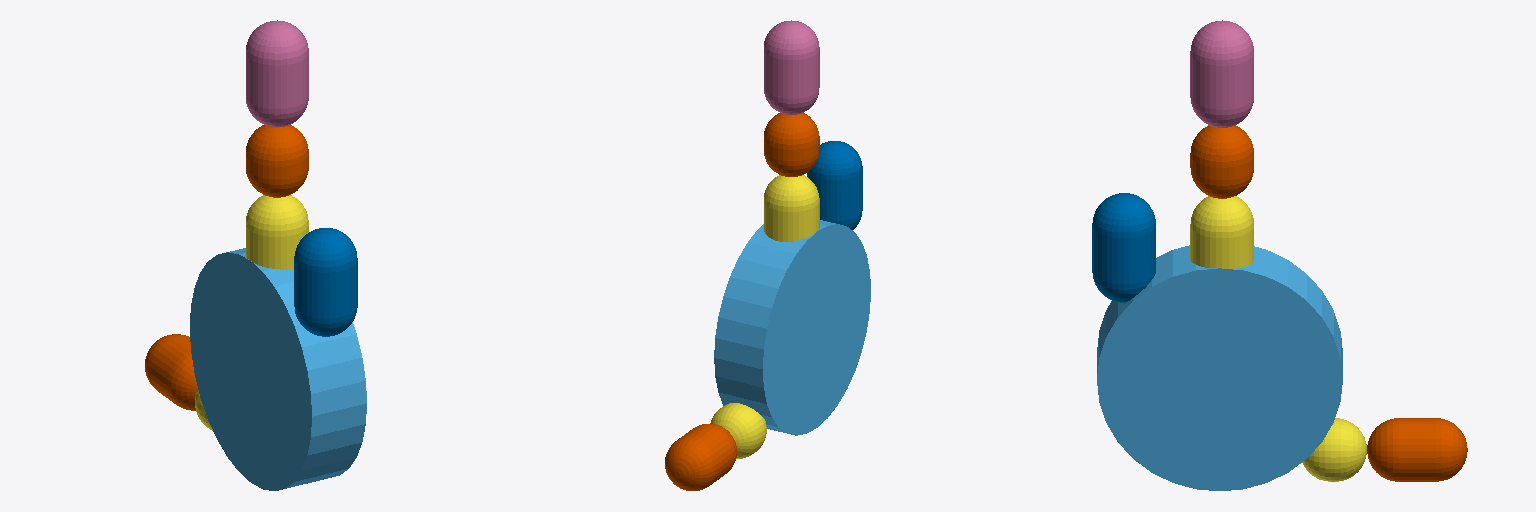
The robot description file, URDF, robot "DexterousHand":
<?xml version="1.0"?>
<robot name="DexterousHand">


    <link name="world"/>
    <joint name="world_to_palm" type="fixed">
        <parent link="world"/>
        <child link="palm"/>
        <origin xyz="0 0 0" rpy="0 0 0"/>
    </joint>
    <link name="palm">
        <inertial>
            <origin xyz="0 0 0.057" rpy="0 0 0"/>
            <mass value="0.30212892864"/>
            <inertia ixx="0.00049080844457568" ixy="0.0" ixz="0.0" iyy="0.00026746366246427523" iyz="0.0" izz="0.00026746366246427523"/>
        </inertial>
        <visual>
            <origin xyz="0 0 0.057" rpy="1.5708 0 1.5708"/>
            <geometry>
                <cylinder radius="0.057" length="0.0296"/>
            </geometry>
            <material name="default"/>
        </visual>
        <collision>
            <origin xyz="0 0 0.057" rpy="1.5708 0 1.5708"/>
            <geometry>
                <cylinder radius="0.057" length="0.0296"/>
            </geometry>
        </collision>
    </link>

    
    <joint name="thumb_joint1" type="revolute">
        <parent link="palm"/>
        <child link="thumb_base"/>
        <origin xyz="0.0029 0.0368 0.0157" rpy="-1.5708 -1.5708 0.0"/>
        <axis xyz="-1 0 0"/>
        <limit lower="-0.349" upper="2.094" effort="1.0" velocity="1.0"/>
    </joint>

    <link name="thumb_base"></link>

    <joint name="thumb_joint2" type="revolute">
        <parent link="thumb_base"/>
        <child link="thumb_proximal"/>
        <origin xyz="0.0 0.0 0.0" rpy="0.0 0.0 0.0"/>
        <axis xyz="0 0 1"/>
        <limit lower="-0.47" upper="2.443" effort="1.0" velocity="1.0"/>
    </joint>

    <link name="thumb_proximal">
        <inertial>
            <origin xyz="0 0 0.01565" rpy="0 0 0"/>
            <mass value="0.021538658803200002"/>
            <inertia ixx="2.9378910096388167e-06" ixy="0.0" ixz="0.0" 
            iyy="2.9378910096388167e-06" iyz="0.0" izz="2.358913912126464e-06"/>
        </inertial>
        <visual>
            <origin xyz="0 0 0.01565" rpy="0 0 0"/>
            <geometry>
                <cylinder radius="0.0148" length="0.0017000000000000001"/>
            </geometry>
            <material name="default"/>
        </visual>
        <visual>
            <origin xyz="0 0 0.0148" rpy="0 0 0"/>
            <geometry>
                <sphere radius="0.0148"/>
            </geometry>
            <material name="default"/>
        </visual>
        <visual>
            <origin xyz="0 0 0.0165" rpy="0 0 0"/>
            <geometry>
                <sphere radius="0.0148"/>
            </geometry>
            <material name="default"/>
        </visual>
        <collision>
            <origin xyz="0 0 0.01565" rpy="0 0 0"/>
            <geometry>
                <cylinder radius="0.0148" length="0.0017000000000000001"/>
            </geometry>
        </collision>
        <collision>
            <origin xyz="0 0 0.0148" rpy="0 0 0"/>
            <geometry>
                <sphere radius="0.0148"/>
            </geometry>
        </collision>
        <collision>
            <origin xyz="0 0 0.0165" rpy="0 0 0"/>
            <geometry>
                <sphere radius="0.0148"/>
            </geometry>
        </collision>
    </link>

    <joint name="thumb_joint3" type="revolute">
        <parent link="thumb_proximal"/>
        <child link="thumb_knuckle"/>
        <origin xyz="0.0 0.0 0.0313" rpy="0.0 0.0 0.0"/>
        <axis xyz="1 0 0"/>
        <limit lower="0.0" upper="0.0" effort="1.0" velocity="1.0"/>
    </joint>

    <link name="thumb_knuckle"></link>

    <joint name="thumb_joint4" type="revolute">
        <parent link="thumb_knuckle"/>
        <child link="thumb_middle"/>
        <origin xyz="0 0 0" rpy="0 0 0"/> 
        <axis xyz="0 1 0"/>
        <limit lower="-1.2" upper="1.9" effort="1.0" velocity="1.0"/>
    </joint>

    <link name="thumb_middle">
        <inertial>
            <origin xyz="0 0 0.0233" rpy="0 0 0"/>
            <mass value="0.032067140582400004"/>
            <inertia ixx="7.5589732685519385e-06" ixy="0.0" ixz="0.0" 
            iyy="7.5589732685519385e-06" iyz="0.0" izz="3.5119932365844485e-06"/>
        </inertial>
        <visual>
            <origin xyz="0 0 0.0233" rpy="0 0 0"/>
            <geometry>
                <cylinder radius="0.0148" length="0.017"/>
            </geometry>
            <material name="default"/>
        </visual>
        <visual>
            <origin xyz="0 0 0.0148" rpy="0 0 0"/>
            <geometry>
                <sphere radius="0.0148"/>
            </geometry>
            <material name="default"/>
        </visual>
        <visual>
            <origin xyz="0 0 0.0318" rpy="0 0 0"/>
            <geometry>
                <sphere radius="0.0148"/>
            </geometry>
            <material name="default"/>
        </visual>
        <collision>
            <origin xyz="0 0 0.0233" rpy="0 0 0"/>
            <geometry>
                <cylinder radius="0.0148" length="0.017"/>
            </geometry>
        </collision>
        <collision>
            <origin xyz="0 0 0.0148" rpy="0 0 0"/>
            <geometry>
                <sphere radius="0.0148"/>
            </geometry>
        </collision>
        <collision>
            <origin xyz="0 0 0.0318" rpy="0 0 0"/>
            <geometry>
                <sphere radius="0.0148"/>
            </geometry>
        </collision>
    </link>

    <joint name="thumb_joint5" type="revolute">
        <parent link="thumb_middle"/>
        <child link="thumb_distal"/>
        <origin xyz="0 0 0.0466" rpy="0 0 0"/> 
        <axis xyz="0 1 0"/>
        <limit lower="0.0" upper="0.0" effort="1.0" velocity="1.0"/>
    </joint>

    <link name="thumb_distal">
    </link>

    
    <joint name="index_joint1" type="revolute">
        <parent link="palm"/>
        <child link="index_proximal"/>
        <origin xyz="0.0 0.0 0.0" rpy="0.0 0.0 0.0"/>
        <axis xyz="1 0 0"/>
        <limit lower="0.0" upper="0.0" effort="1.0" velocity="1.0"/>
    </joint>

    <link name="index_proximal">
    </link>

    <joint name="index_joint2" type="revolute">
        <parent link="index_proximal"/>
        <child link="index_dummy"/>
        <origin xyz="0.0 0.0 0.0" rpy="0.0 0.0 0.0"/>
        <axis xyz="0 1 0"/>
        <limit lower="0.0" upper="0.0" effort="1.0" velocity="1.0"/>
    </joint>

    <link name="index_dummy"></link>

    <joint name="index_joint3" type="revolute">
        <parent link="index_dummy"/>
        <child link="index_middle"/>
        <origin xyz="0 0 0" rpy="0 0 0"/>
        <axis xyz="0 1 0"/>
        <limit lower="0.0" upper="0.0" effort="1.0" velocity="1.0"/>
    </joint>

    <link name="index_middle">
    </link>

    <joint name="index_joint4" type="revolute">
        <parent link="index_middle"/>
        <child link="index_distal"/>
        <origin xyz="0 0 0" rpy="0 0 0"/> 
        <axis xyz="0 1 0"/>
        <limit lower="0.0" upper="0.0" effort="1.0" velocity="1.0"/>
    </joint>

    <link name="index_distal">
    </link>

    
    <joint name="middle_joint1" type="revolute">
        <parent link="palm"/>
        <child link="middle_proximal"/>
        <origin xyz="0.0 0.0011 0.091" rpy="0.0 0.0 0.0"/>
        <axis xyz="0 1 0"/>
        <limit lower="-0.314" upper="2.23" effort="1.0" velocity="1.0"/>
    </joint>

    <link name="middle_proximal">
        <inertial>
            <origin xyz="0 0 0.02655" rpy="0 0 0"/>
            <mass value="0.036540024998400006"/>
            <inertia ixx="1.058665009272394e-05" ixy="0.0" ixz="0.0" 
            iyy="1.058665009272394e-05" iyz="0.0" izz="4.001863537824769e-06"/>
        </inertial>
        <visual>
            <origin xyz="0 0 0.02655" rpy="0 0 0"/>
            <geometry>
                <cylinder radius="0.0148" length="0.0235"/>
            </geometry>
            <material name="default"/>
        </visual>
        <visual>
            <origin xyz="0 0 0.0148" rpy="0 0 0"/>
            <geometry>
                <sphere radius="0.0148"/>
            </geometry>
            <material name="default"/>
        </visual>
        <visual>
            <origin xyz="0 0 0.0383" rpy="0 0 0"/>
            <geometry>
                <sphere radius="0.0148"/>
            </geometry>
            <material name="default"/>
        </visual>
        <collision>
            <origin xyz="0 0 0.02655" rpy="0 0 0"/>
            <geometry>
                <cylinder radius="0.0148" length="0.0235"/>
            </geometry>
        </collision>
        <collision>
            <origin xyz="0 0 0.0148" rpy="0 0 0"/>
            <geometry>
                <sphere radius="0.0148"/>
            </geometry>
        </collision>
        <collision>
            <origin xyz="0 0 0.0383" rpy="0 0 0"/>
            <geometry>
                <sphere radius="0.0148"/>
            </geometry>
        </collision>
    </link>

    <joint name="middle_joint2" type="revolute">
        <parent link="middle_proximal"/>
        <child link="middle_dummy"/>
        <origin xyz="0.0 0.0 0.038" rpy="0.0 0.0 0.0"/>
        <axis xyz="1 0 0"/>
        <limit lower="-1.047" upper="1.047" effort="1.0" velocity="1.0"/>
    </joint>

    <link name="middle_dummy"></link>

    <joint name="middle_joint3" type="revolute">
        <parent link="middle_dummy"/>
        <child link="middle_middle"/>
        <origin xyz="0 0 0.015100000000000002" rpy="0 0 0"/>
        <axis xyz="0 1 0"/>
        <limit lower="-0.506" upper="1.885" effort="1.0" velocity="1.0"/>
    </joint>

    <link name="middle_middle">
        <inertial>
            <origin xyz="0 0 0.01805" rpy="0 0 0"/>
            <mass value="0.0248417119104"/>
            <inertia ixx="4.058162759109537e-06" ixy="0.0" ixz="0.0" 
            iyy="4.058162759109537e-06" iyz="0.0" izz="2.7206642884270085e-06"/>
        </inertial>
        <visual>
            <origin xyz="0 0 0.01805" rpy="0 0 0"/>
            <geometry>
                <cylinder radius="0.0148" length="0.006499999999999999"/>
            </geometry>
            <material name="default"/>
        </visual>
        <visual>
            <origin xyz="0 0 0.0148" rpy="0 0 0"/>
            <geometry>
                <sphere radius="0.0148"/>
            </geometry>
            <material name="default"/>
        </visual>
        <visual>
            <origin xyz="0 0 0.0213" rpy="0 0 0"/>
            <geometry>
                <sphere radius="0.0148"/>
            </geometry>
            <material name="default"/>
        </visual>
        <collision>
            <origin xyz="0 0 0.01805" rpy="0 0 0"/>
            <geometry>
                <cylinder radius="0.0148" length="0.006499999999999999"/>
            </geometry>
        </collision>
        <collision>
            <origin xyz="0 0 0.0148" rpy="0 0 0"/>
            <geometry>
                <sphere radius="0.0148"/>
            </geometry>
        </collision>
        <collision>
            <origin xyz="0 0 0.0213" rpy="0 0 0"/>
            <geometry>
                <sphere radius="0.0148"/>
            </geometry>
        </collision>
    </link>

    <joint name="middle_joint4" type="revolute">
        <parent link="middle_middle"/>
        <child link="middle_distal"/>
        <origin xyz="0 0 0.0361" rpy="0 0 0"/> 
        <axis xyz="0 1 0"/>
        <limit lower="-0.366" upper="2.042" effort="1.0" velocity="1.0"/>
    </joint>

    <link name="middle_distal">
        <inertial>
            <origin xyz="0 0 0.026" rpy="0 0 0"/>
            <mass value="0.035783075328"/>
            <inertia ixx="1.002260084553728e-05" ixy="0.0" ixz="0.0" 
            iyy="1.002260084553728e-05" iyz="0.0" izz="3.91896240992256e-06"/>
        </inertial>
        <visual>
            <origin xyz="0 0 0.026" rpy="0 0 0"/>
            <geometry>
                <cylinder radius="0.0148" length="0.022399999999999996"/>
            </geometry>
            <material name="default"/>
        </visual>
        <visual>
            <origin xyz="0 0 0.0148" rpy="0 0 0"/>
            <geometry>
                <sphere radius="0.0148"/>
            </geometry>
            <material name="default"/>
        </visual>
        <visual>
            <origin xyz="0 0 0.0372" rpy="0 0 0"/>
            <geometry>
                <sphere radius="0.0148"/>
            </geometry>
            <material name="default"/>
        </visual>
        <collision>
            <origin xyz="0 0 0.026" rpy="0 0 0"/>
            <geometry>
                <cylinder radius="0.0148" length="0.022399999999999996"/>
            </geometry>
        </collision>
        <collision>
            <origin xyz="0 0 0.0148" rpy="0 0 0"/>
            <geometry>
                <sphere radius="0.0148"/>
            </geometry>
        </collision>
        <collision>
            <origin xyz="0 0 0.0372" rpy="0 0 0"/>
            <geometry>
                <sphere radius="0.0148"/>
            </geometry>
        </collision>
    </link>

    
    <joint name="ring_joint1" type="revolute">
        <parent link="palm"/>
        <child link="ring_proximal"/>
        <origin xyz="0.0 0.0 0.0" rpy="0.0 0.0 0.0"/>
        <axis xyz="1 0 0"/>
        <limit lower="0.0" upper="0.0" effort="1.0" velocity="1.0"/>
    </joint>

    <link name="ring_proximal">
    </link>

    <joint name="ring_joint2" type="revolute">
        <parent link="ring_proximal"/>
        <child link="ring_dummy"/>
        <origin xyz="0.0 0.0 0.0" rpy="0.0 0.0 0.0"/>
        <axis xyz="0 1 0"/>
        <limit lower="0.0" upper="0.0" effort="1.0" velocity="1.0"/>
    </joint>

    <link name="ring_dummy"></link>

    <joint name="ring_joint3" type="revolute">
        <parent link="ring_dummy"/>
        <child link="ring_middle"/>
        <origin xyz="0 0 0" rpy="0 0 0"/>
        <axis xyz="0 1 0"/>
        <limit lower="0.0" upper="0.0" effort="1.0" velocity="1.0"/>
    </joint>

    <link name="ring_middle">
    </link>

    <joint name="ring_joint4" type="revolute">
        <parent link="ring_middle"/>
        <child link="ring_distal"/>
        <origin xyz="0 0 0" rpy="0 0 0"/> 
        <axis xyz="0 1 0"/>
        <limit lower="0.0" upper="0.0" effort="1.0" velocity="1.0"/>
    </joint>

    <link name="ring_distal">
    </link>

    
    <joint name="little_joint0" type="revolute">
        <parent link="palm"/>
        <child link="little_base"/>
        <origin xyz="0.0 0.0 0.0" rpy="0.0 0.0 0.0"/>
        <axis xyz="0 1 0"/>
        <limit lower="0.0" upper="0.0" effort="1.0" velocity="1.0"/>
    </joint>

    <link name="little_base"></link>

    <joint name="little_joint1" type="revolute">
        <parent link="little_base"/>
        <child link="little_proximal"/>
        <origin xyz="0.0 -0.0443 0.091" rpy="-0.0 -0.0 -0.0"/>
        <axis xyz="0 1 0"/>
        <limit lower="-0.314" upper="2.23" effort="1.0" velocity="1.0"/>
    </joint>

    <link name="little_proximal">
        <inertial>
            <origin xyz="0 0 0.02655" rpy="0 0 0"/>
            <mass value="0.036540024998400006"/>
            <inertia ixx="1.058665009272394e-05" ixy="0.0" ixz="0.0" 
            iyy="1.058665009272394e-05" iyz="0.0" izz="4.001863537824769e-06"/>
        </inertial>
        <visual>
            <origin xyz="0 0 0.02655" rpy="0 0 0"/>
            <geometry>
                <cylinder radius="0.0148" length="0.0235"/>
            </geometry>
            <material name="default"/>
        </visual>
        <visual>
            <origin xyz="0 0 0.0148" rpy="0 0 0"/>
            <geometry>
                <sphere radius="0.0148"/>
            </geometry>
            <material name="default"/>
        </visual>
        <visual>
            <origin xyz="0 0 0.0383" rpy="0 0 0"/>
            <geometry>
                <sphere radius="0.0148"/>
            </geometry>
            <material name="default"/>
        </visual>
        <collision>
            <origin xyz="0 0 0.02655" rpy="0 0 0"/>
            <geometry>
                <cylinder radius="0.0148" length="0.0235"/>
            </geometry>
        </collision>
        <collision>
            <origin xyz="0 0 0.0148" rpy="0 0 0"/>
            <geometry>
                <sphere radius="0.0148"/>
            </geometry>
        </collision>
        <collision>
            <origin xyz="0 0 0.0383" rpy="0 0 0"/>
            <geometry>
                <sphere radius="0.0148"/>
            </geometry>
        </collision>
    </link>

    <joint name="little_joint2" type="revolute">
        <parent link="little_proximal"/>
        <child link="little_dummy"/>
        <origin xyz="0.0 0.0 0.038" rpy="0.0 0.0 0.0"/>
        <axis xyz="0 1 0"/>
        <limit lower="0.0" upper="0.0" effort="1.0" velocity="1.0"/>
    </joint>

    <link name="little_dummy"></link>

    <joint name="little_joint3" type="revolute">
        <parent link="little_dummy"/>
        <child link="little_middle"/>
        <origin xyz="0 0 0.015100000000000002" rpy="0 0 0"/>
        <axis xyz="0 1 0"/>
        <limit lower="0.0" upper="0.0" effort="1.0" velocity="1.0"/>
    </joint>

    <link name="little_middle">
    </link>

    <joint name="little_joint4" type="revolute">
        <parent link="little_middle"/>
        <child link="little_distal"/>
        <origin xyz="0 0 0" rpy="0 0 0"/>
        <axis xyz="0 1 0"/>
        <limit lower="0.0" upper="0.0" effort="1.0" velocity="1.0"/>
    </joint>

    <link name="little_distal">
    </link>

</robot>

--- Render facts (derived) ---
The picture shows the robot from 3 angles, left to right: view 1: azimuth 30°, elevation 25°; view 2: azimuth 150°, elevation 25°; view 3: azimuth 270°, elevation 25°; orthographic projection.
Robot: DexterousHand — 24 links, 23 joints (22 revolute, 1 fixed); root link world; default pose: all joints at 0.
Visible links, largest first — view 1: palm, little_proximal, middle_distal, middle_middle, middle_proximal, thumb_middle; view 2: palm, middle_distal, little_proximal, thumb_middle, middle_proximal, middle_middle, thumb_proximal; view 3: palm, middle_distal, little_proximal, thumb_middle, middle_proximal, middle_middle, thumb_proximal.
Link boxes in pixels (bbox=[...]): palm: bbox=[190, 248, 366, 490]; little_proximal: bbox=[294, 228, 357, 336]; middle_distal: bbox=[246, 20, 308, 127]; middle_middle: bbox=[246, 125, 308, 197]; middle_proximal: bbox=[246, 195, 308, 269]; thumb_middle: bbox=[145, 334, 197, 410]; palm: bbox=[714, 220, 870, 435]; middle_distal: bbox=[764, 20, 819, 114]; little_proximal: bbox=[807, 141, 862, 229]; thumb_middle: bbox=[665, 424, 736, 490]; middle_proximal: bbox=[764, 175, 819, 241]; middle_middle: bbox=[764, 113, 819, 176]; thumb_proximal: bbox=[710, 403, 766, 458]; palm: bbox=[1097, 245, 1342, 490]; middle_distal: bbox=[1190, 20, 1253, 127]; little_proximal: bbox=[1092, 193, 1155, 302]; thumb_middle: bbox=[1367, 418, 1467, 481]; middle_proximal: bbox=[1190, 196, 1253, 268]; middle_middle: bbox=[1190, 125, 1253, 198]; thumb_proximal: bbox=[1302, 418, 1366, 481].
Size in the robot's own frame: 0.0325 by 0.1738 by 0.2322 metres.
Geometry: primitives only (box / cylinder / sphere), no mesh files.
